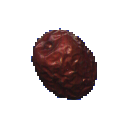gd: (23, 22, 122, 118)
